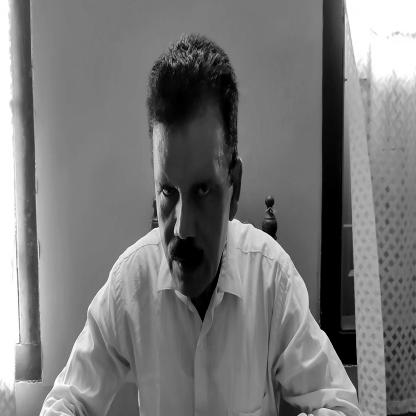Normal: (149, 30, 239, 307)
